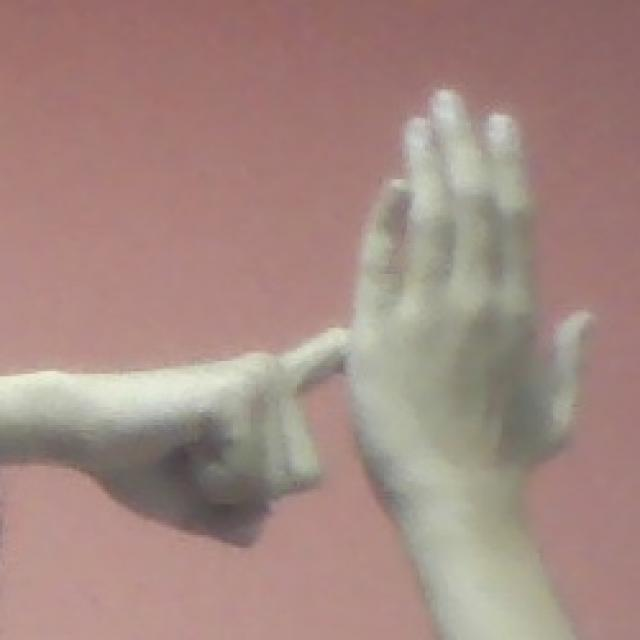Alphabet-R: (5, 79, 603, 573)
